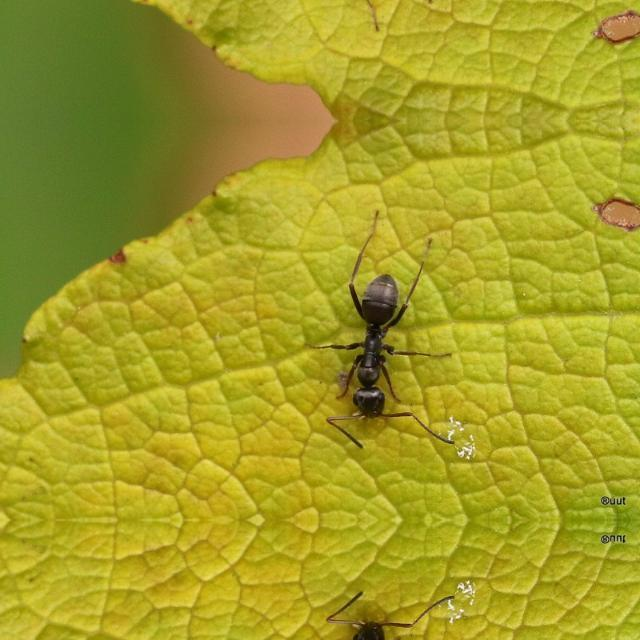Formica: (312, 253, 421, 423)
